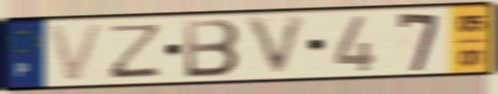4: (331, 13, 378, 74)
7: (395, 10, 440, 73)
B: (182, 17, 243, 80)
V: (242, 11, 312, 80), (45, 20, 110, 85)
Z: (105, 22, 166, 81)
